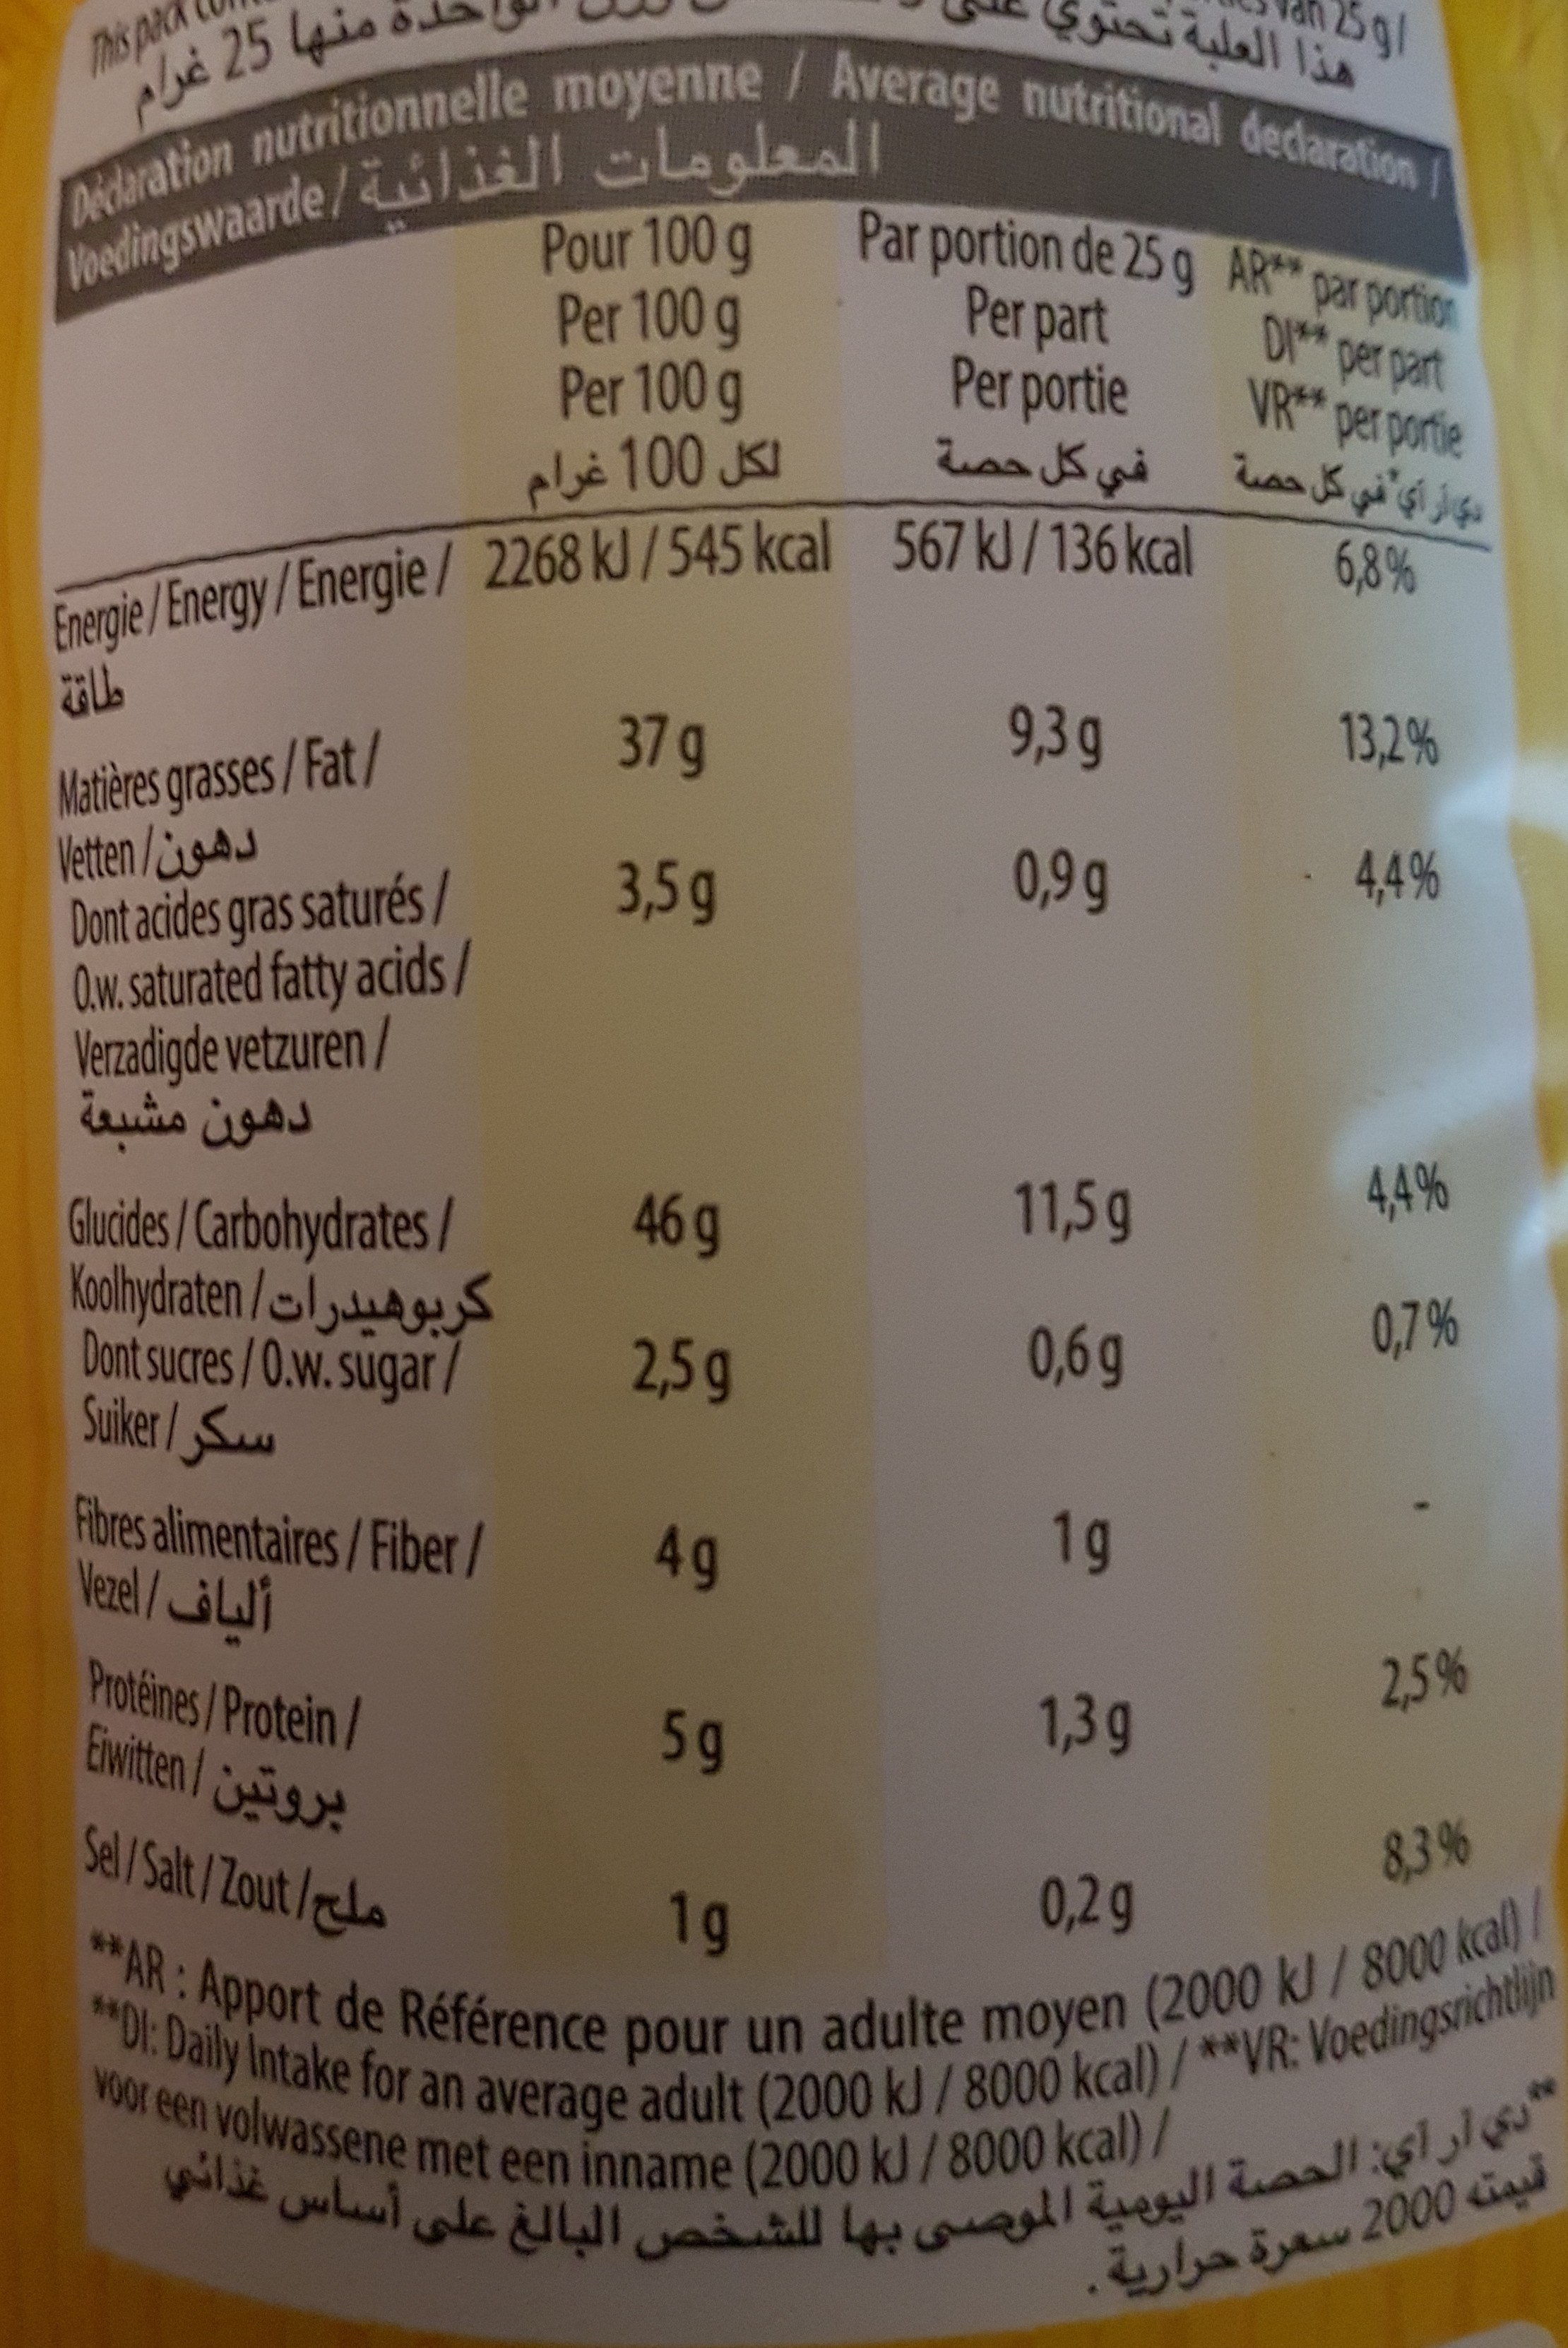column: (480, 210, 833, 1949), (859, 205, 1190, 1940), (53, 528, 446, 1930), (1227, 241, 1503, 1916)
table: (19, 37, 1543, 1963)
